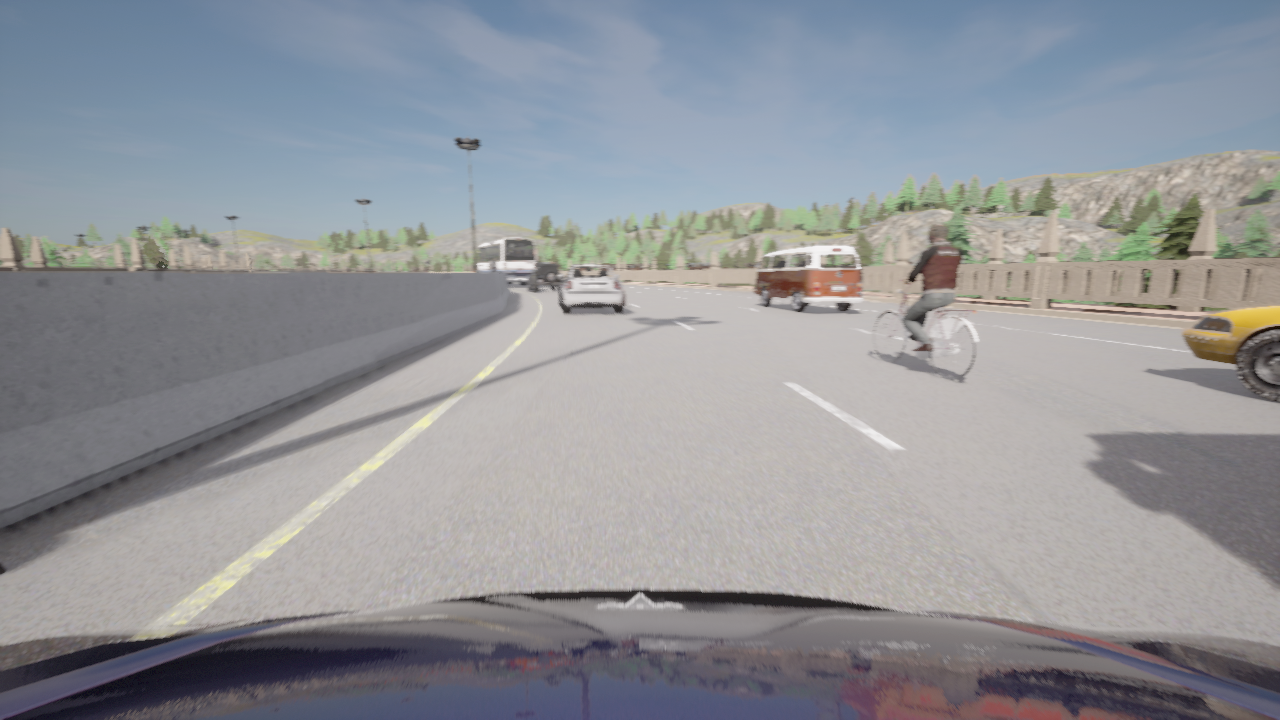cyclist: (0, 588, 1279, 719), (873, 279, 978, 380), (1182, 305, 1279, 402), (754, 245, 862, 312), (558, 264, 624, 314), (472, 237, 537, 285), (527, 263, 561, 291)
